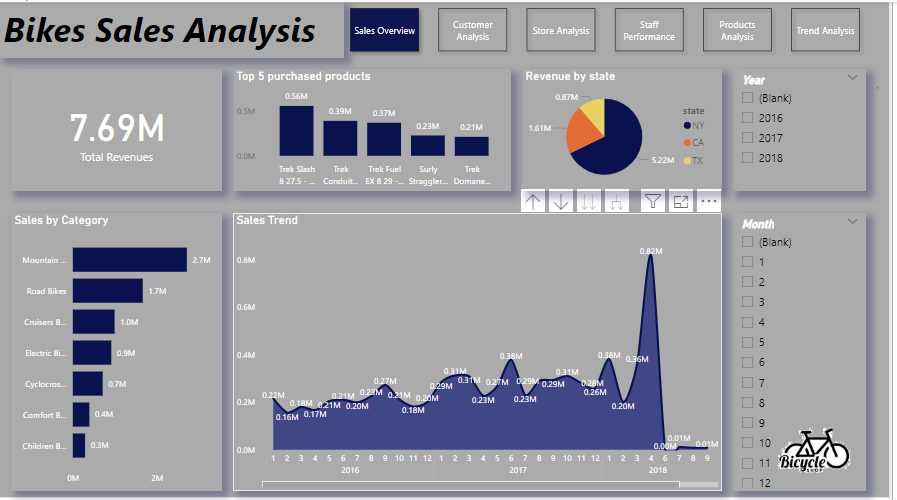

The page's visual inventory and layout, read from the dashboard file:
{"tool":"powerbi","page":{"name":"Sales Overview","canvas":[1280,720],"ordinal":0},"visuals":[{"type":"card","title":"Total Sales","fields":{"Values":["Sum(order_items.Revenue)"]},"box":[16,96,304,176],"z":0},{"type":"textbox","box":[0,0,1280,80],"z":1000},{"type":"clusteredBarChart","title":"Sales by Category","fields":{"Y":["Sum(order_items.Revenue)"],"Category":["categories.category_name"]},"box":[16,304,304,400],"z":2000},{"type":"clusteredColumnChart","title":"Top 5 purchased products","fields":{"Category":["products.product_name"],"Y":["Sum(order_items.Revenue)"]},"box":[336,96,400,176],"z":3000},{"type":"pageNavigator","box":[496,0,752,80],"z":4000},{"type":"actionButton","box":[0,0,496,80],"z":5000},{"type":"areaChart","title":"Sales Trend","fields":{"Category":["orders.Year","orders.Month"],"Y":["Sum(order_items.Revenue)"]},"box":[336,304,704,400],"z":6000},{"type":"pieChart","title":"Revenue by state","fields":{"Y":["Sum(order_items.Revenue)"],"Category":["customers.state"]},"box":[752,96,288,176],"z":7000},{"type":"slicer","fields":{"Values":["orders.Year"]},"box":[1056,96,192,176],"z":8000},{"type":"slicer","fields":{"Values":["orders.Month"]},"box":[1056,304,192,400],"z":9000}]}

Visuals, with their boxes in screenshot pixels (x1, y1, x2, y2), scaled from the page's 1280x720 canvas onto the 897x500 screenshot:
"Total Sales" card: (left=11, top=67, right=224, bottom=189)
textbox: (left=0, top=0, right=896, bottom=56)
"Sales by Category" clusteredBarChart: (left=11, top=211, right=224, bottom=489)
"Top 5 purchased products" clusteredColumnChart: (left=235, top=67, right=516, bottom=189)
pageNavigator: (left=348, top=0, right=875, bottom=56)
actionButton: (left=0, top=0, right=348, bottom=56)
"Sales Trend" areaChart: (left=235, top=211, right=729, bottom=489)
"Revenue by state" pieChart: (left=527, top=67, right=729, bottom=189)
slicer - orders.Year: (left=740, top=67, right=875, bottom=189)
slicer - orders.Month: (left=740, top=211, right=875, bottom=489)
